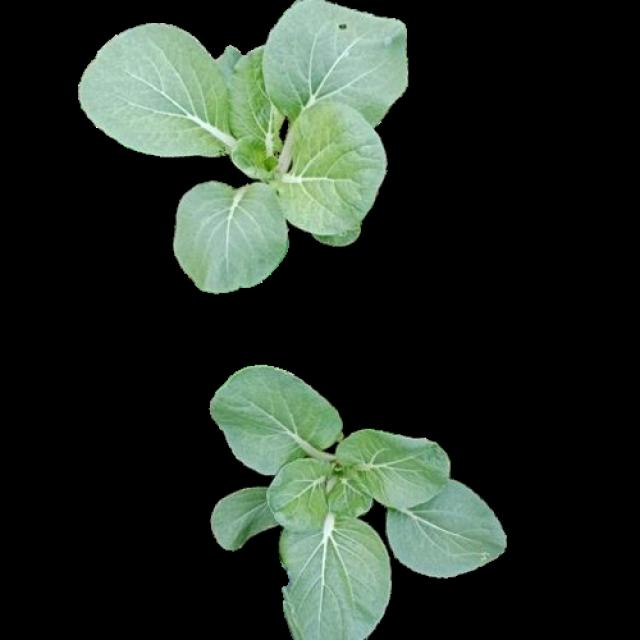healthy: (82, 4, 411, 292), (210, 363, 503, 638)
not-mature: (80, 2, 408, 290), (212, 366, 506, 640)
